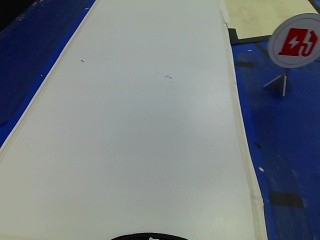battery: (266, 12, 318, 68)
